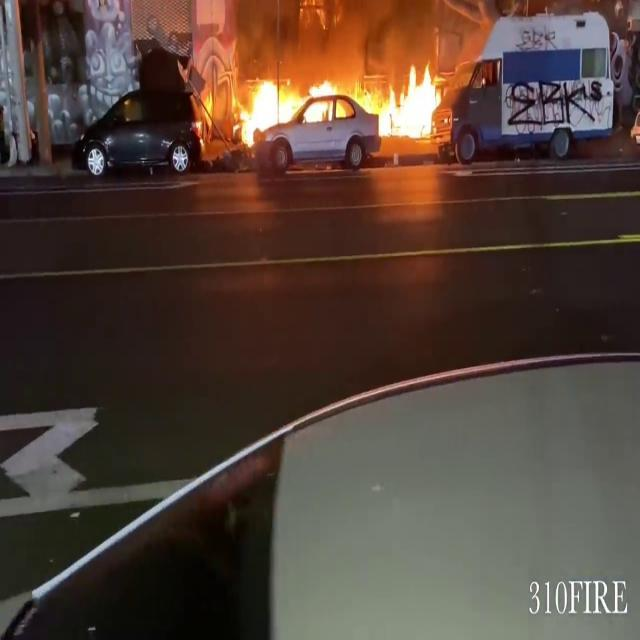Fire: (210, 54, 350, 146), (376, 66, 458, 143)
